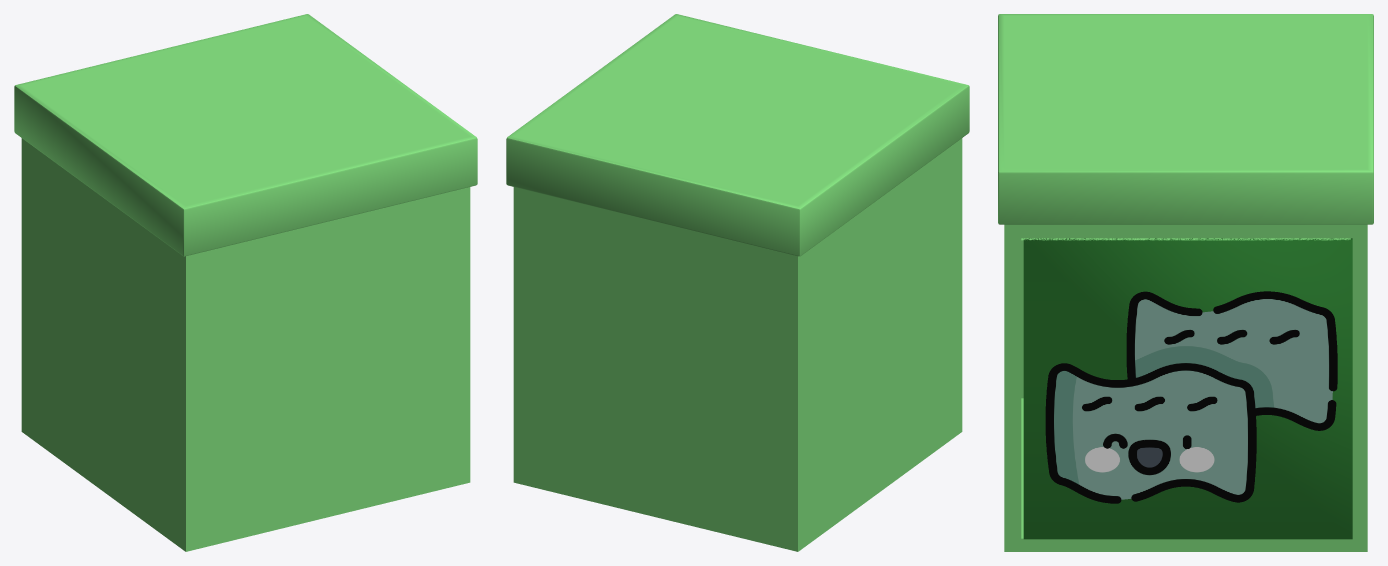
File: Cajon de alga nori 1.fbx
The picture shows the model from 3 angles, left to right: view 1: azimuth 30°, elevation 25°; view 2: azimuth 150°, elevation 25°; view 3: azimuth 270°, elevation 25°; orthographic projection. The views are drawn at different scales.
Parts seen in each view (by area): view 1: Mueble.002; view 2: Mueble.002; view 3: Mueble.002, Tapa.002, Imagen alga nori.
Part boxes in pixels (bbox=[...]): Mueble.002: bbox=[14, 14, 477, 551]; Mueble.002: bbox=[506, 14, 969, 551]; Mueble.002: bbox=[998, 14, 1373, 551]; Tapa.002: bbox=[1023, 238, 1352, 539]; Imagen alga nori: bbox=[1045, 291, 1337, 503].
Bounding box in the file's own units: 208 × 232 × 207.
